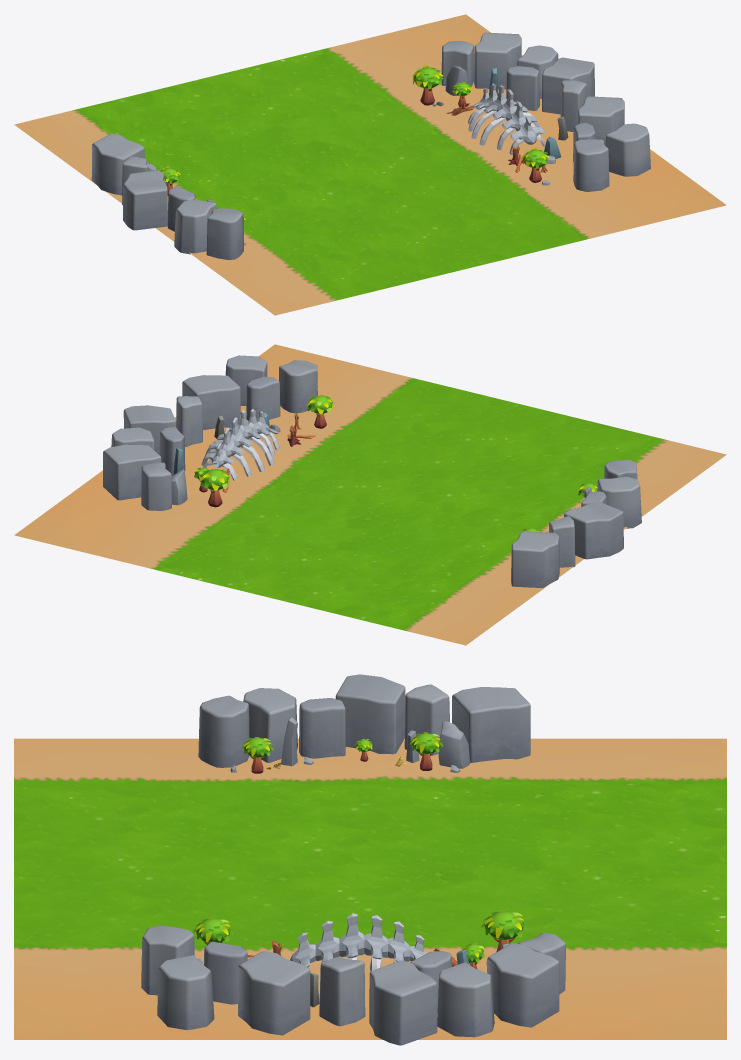
Rendered from Map_01_obj.fbx.
3 renders of one model, top to bottom at view 1: azimuth 30°, elevation 25°; view 2: azimuth 150°, elevation 25°; view 3: azimuth 270°, elevation 25°, orthographic. The views are drawn at different scales.
Visible parts, largest first — view 1: Map_01_Obj; view 2: Map_01_Obj; view 3: Map_01_Obj.
Boxes of the visible parts, <box> form: Map_01_Obj: <box>14,14,726,315</box>; Map_01_Obj: <box>14,344,726,645</box>; Map_01_Obj: <box>14,674,726,1045</box>.
Size of the model in its own units: 70.48 by 10.65 by 66.21.
Materials: 1 (1 with a texture image).
